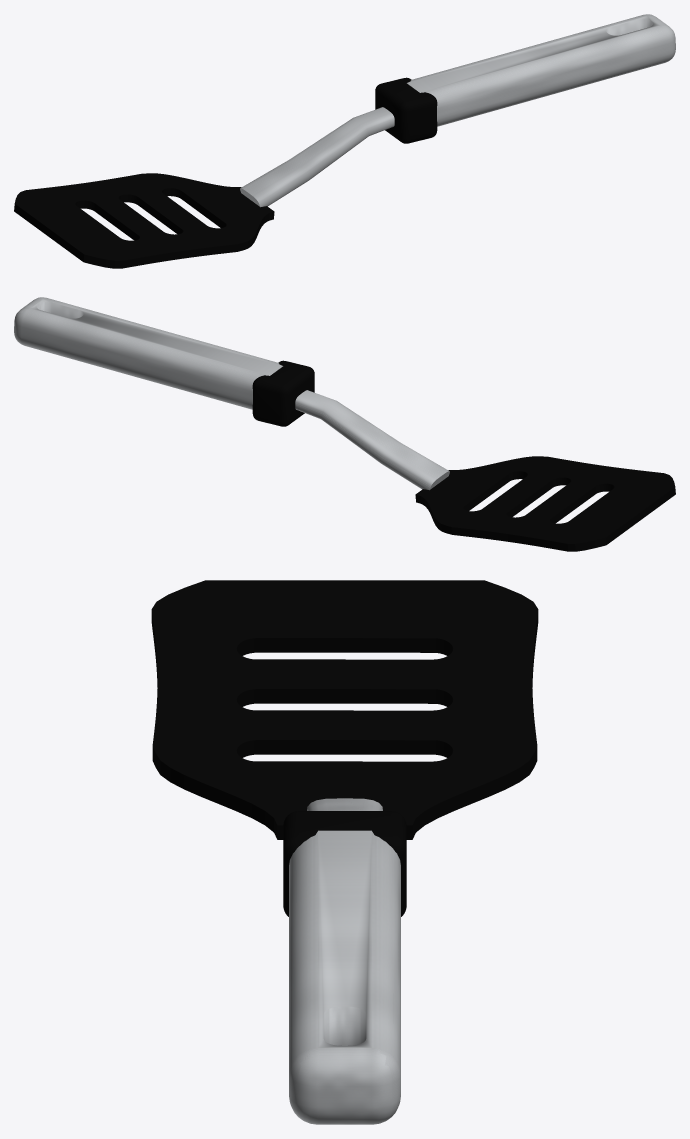
Rendered from SlottedSpatula_370mm.fbx.
3 renders of one model, top to bottom at view 1: azimuth 30°, elevation 25°; view 2: azimuth 150°, elevation 25°; view 3: azimuth 270°, elevation 25°, orthographic. The views are drawn at different scales.
Parts seen in each view (by area): view 1: Spatula_SlottedBlade, Spatula_StainlessHandle, Spatula_SteelNeck, Spatula_BlackCollar; view 2: Spatula_SlottedBlade, Spatula_StainlessHandle, Spatula_SteelNeck, Spatula_BlackCollar; view 3: Spatula_SlottedBlade, Spatula_StainlessHandle, Spatula_BlackCollar, Spatula_SteelNeck.
Boxes of the visible parts, left/top/right/bottom form: Spatula_SlottedBlade: left=14, top=173, right=274, bottom=268; Spatula_StainlessHandle: left=407, top=14, right=675, bottom=126; Spatula_SteelNeck: left=240, top=107, right=394, bottom=207; Spatula_BlackCollar: left=375, top=77, right=437, bottom=143; Spatula_SlottedBlade: left=415, top=456, right=675, bottom=551; Spatula_StainlessHandle: left=14, top=297, right=282, bottom=409; Spatula_SteelNeck: left=295, top=390, right=449, bottom=490; Spatula_BlackCollar: left=252, top=360, right=314, bottom=426; Spatula_SlottedBlade: left=151, top=580, right=538, bottom=839; Spatula_StainlessHandle: left=289, top=830, right=400, bottom=1124; Spatula_BlackCollar: left=283, top=811, right=406, bottom=916; Spatula_SteelNeck: left=307, top=798, right=382, bottom=810.
Bounding box in the file's own units: 0.3697 × 0.0512 × 0.1.
Materials: 2 (1 with a texture image).
